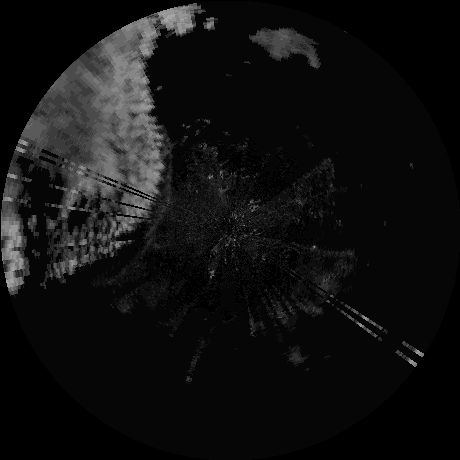frontgust: (144, 153, 173, 247)
